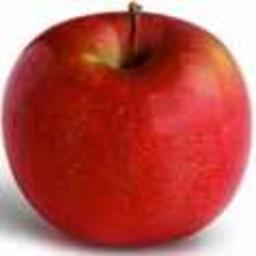apple: (1, 8, 252, 247)
